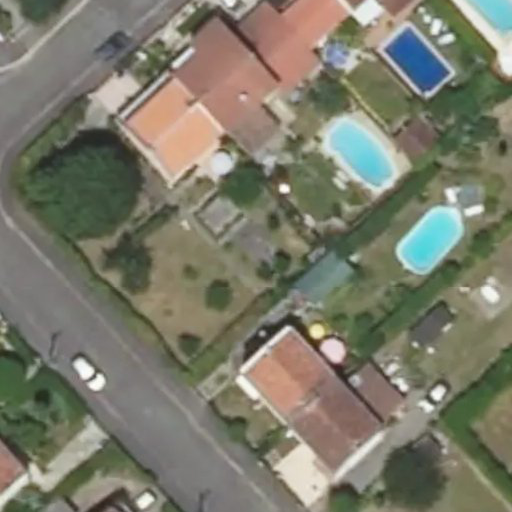pool: (231, 234, 279, 250)
